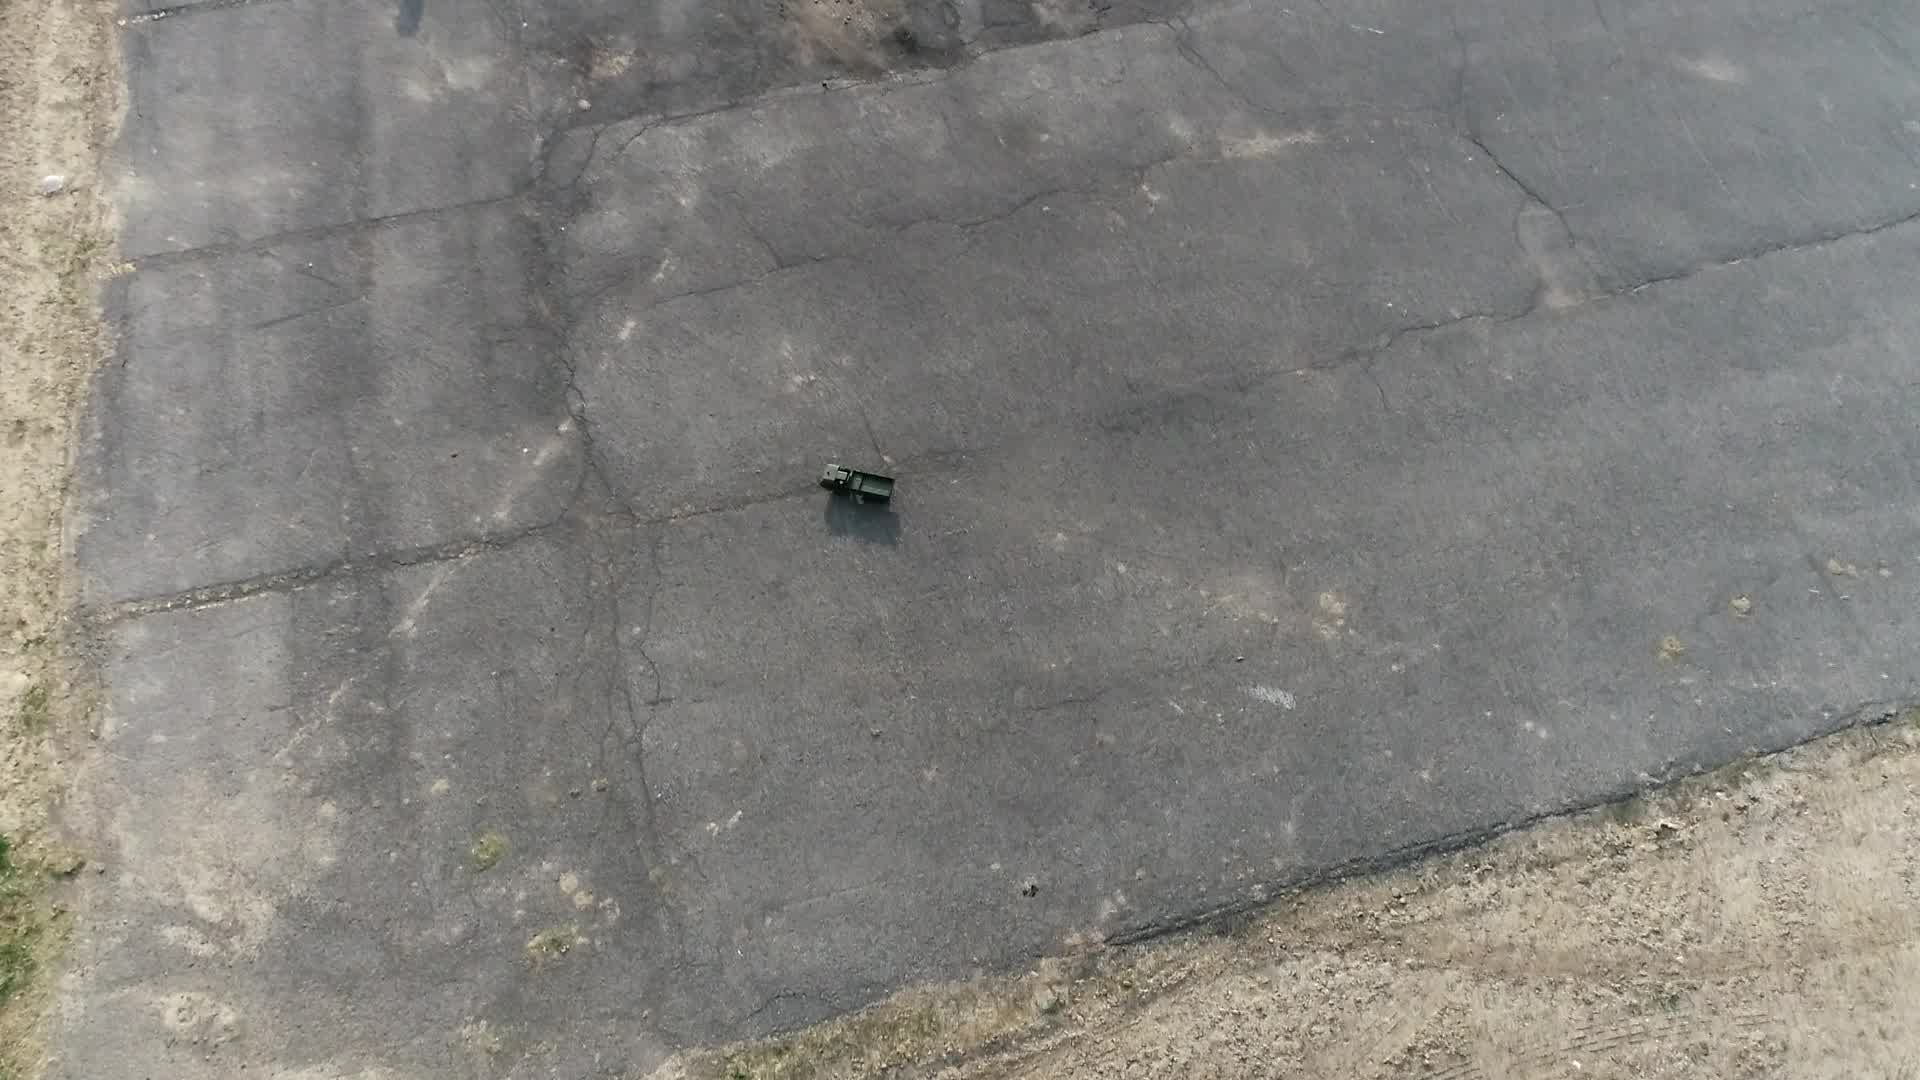transporter9: (818, 456, 898, 510)
